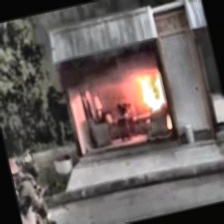fire: (128, 59, 173, 115)
